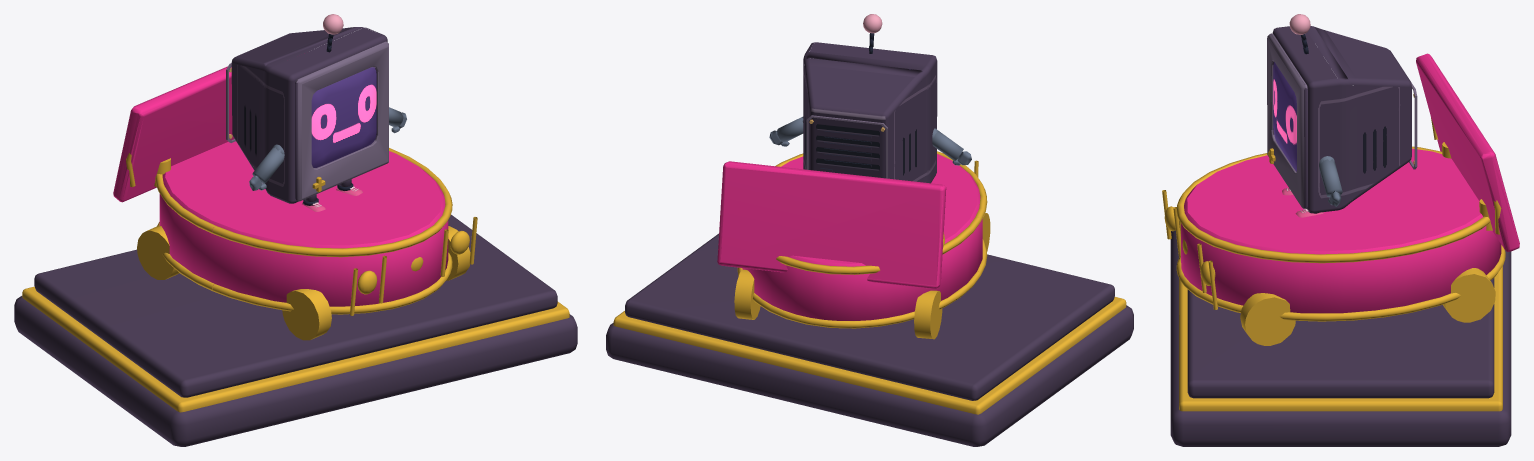
File: kart.body.candy-tin.glb
3 renders of one model, left to right at view 1: azimuth 30°, elevation 25°; view 2: azimuth 150°, elevation 25°; view 3: azimuth 270°, elevation 25°, orthographic. The views are drawn at different scales.
Parts seen in each view (by area): view 1: stand_display_top, candy_tin, emi_teacup_mesh, stand_display_base, hinged_lid, stand_brass_band, rolled_tin_rim.001, rolled_tin_rim, wheel.003, wheel.002, wheel.001; view 2: stand_display_top, hinged_lid, emi_teacup_mesh, stand_display_base, candy_tin, stand_brass_band, rolled_tin_rim, rolled_tin_rim.001, wheel.002, wheel; view 3: candy_tin, stand_display_top, emi_teacup_mesh, stand_display_base, stand_brass_band, hinged_lid, rolled_tin_rim.001, rolled_tin_rim, wheel.001, wheel.
Part boxes in pixels (x1,y1,x2,y2): stand_display_top: (34, 214, 557, 397); candy_tin: (159, 141, 448, 306); emi_teacup_mesh: (226, 14, 406, 211); stand_display_base: (14, 296, 577, 446); hinged_lid: (113, 53, 304, 202); stand_brass_band: (22, 286, 569, 412); rolled_tin_rim.001: (155, 148, 452, 257); rolled_tin_rim: (157, 222, 452, 314); wheel.003: (282, 289, 331, 340); wheel.002: (137, 226, 179, 279); wheel.001: (446, 226, 470, 280); stand_display_top: (625, 233, 1114, 400); hinged_lid: (717, 161, 946, 288); emi_teacup_mesh: (769, 14, 971, 183); stand_display_base: (606, 305, 1133, 446); candy_tin: (742, 154, 982, 320); stand_brass_band: (613, 297, 1126, 414); rolled_tin_rim: (737, 238, 987, 328); rolled_tin_rim.001: (775, 151, 987, 274); wheel.002: (914, 290, 942, 339); wheel: (734, 269, 760, 319); candy_tin: (1181, 148, 1501, 313); stand_display_top: (1187, 278, 1494, 398); emi_teacup_mesh: (1267, 14, 1417, 217); stand_display_base: (1170, 230, 1511, 446); stand_brass_band: (1179, 221, 1502, 411); hinged_lid: (1416, 53, 1519, 251); rolled_tin_rim.001: (1176, 146, 1490, 263); rolled_tin_rim: (1176, 245, 1505, 321); wheel.001: (1240, 293, 1295, 345); wheel: (1443, 268, 1495, 322).
Size of the model in its own units: 0.64 by 0.5101 by 0.48.
4 materials, 2 textured.
